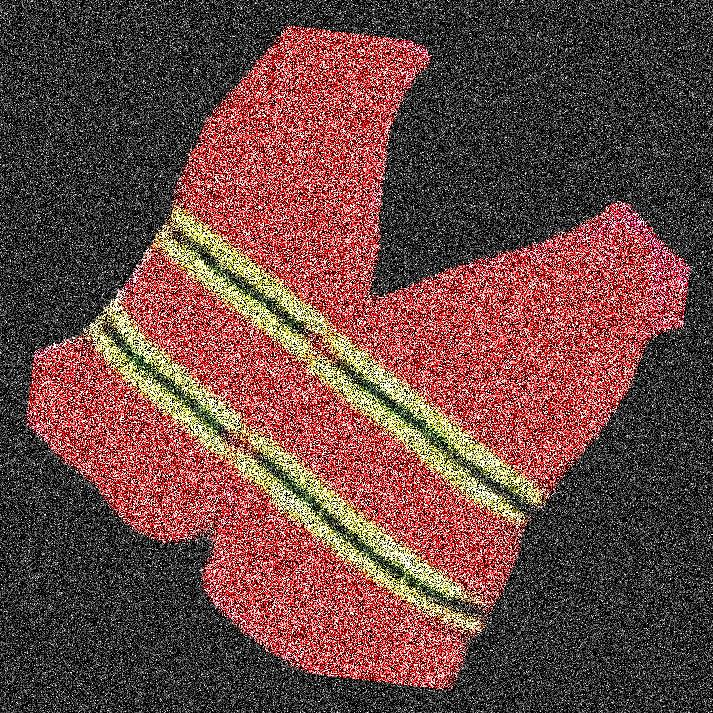Colete: (435, 0, 614, 712)
